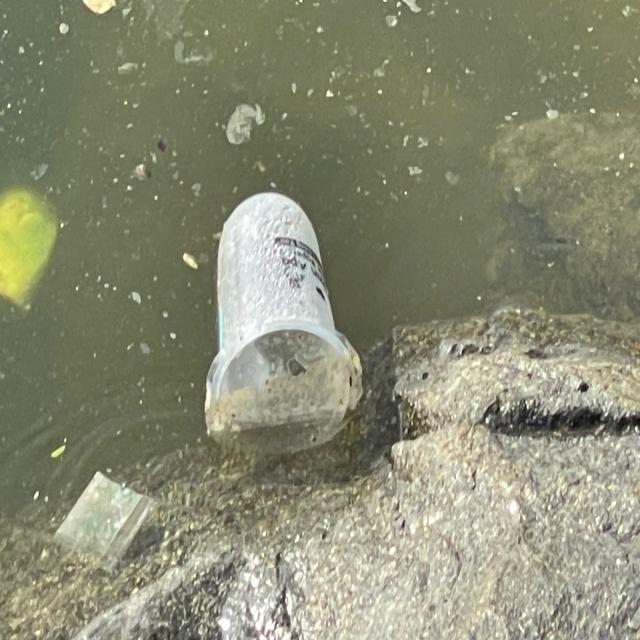Bungkus Minuman: (201, 180, 364, 463)
